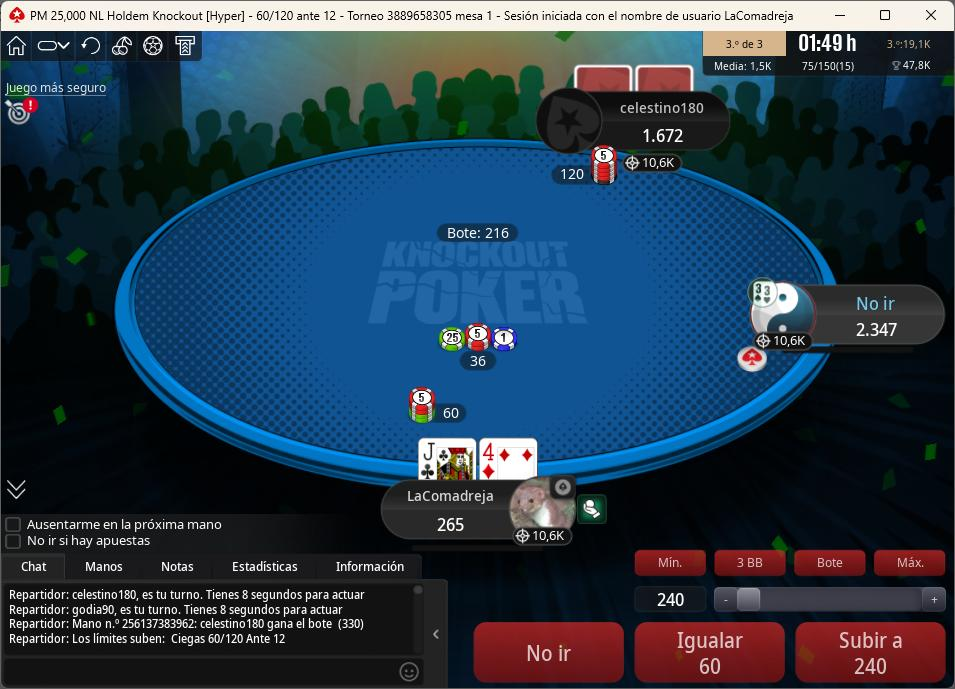ButtonCall: (628, 614, 784, 684)
ButtonFold: (472, 620, 631, 685)
ButtonMaxRaise: (874, 550, 950, 575)
ButtonMinRaise: (633, 547, 711, 580)
ButtonPotRaise: (794, 548, 869, 577)
ButtonRaise: (792, 618, 947, 684)
Dealer: (734, 344, 776, 377)
HiddenCards: (575, 67, 701, 96)
Player: (747, 281, 951, 352), (543, 89, 732, 155)
PlayerBet: (542, 138, 628, 199)
PlayerChips: (848, 323, 906, 342)
Pot: (435, 223, 522, 244)
PrincipalBet: (406, 385, 472, 425)
PrincipalCards: (412, 436, 543, 483)
PrincipalCards1: (415, 436, 480, 482)
PrincipalCards2: (480, 436, 542, 482)
PrincipalPlayer: (385, 475, 588, 554)
PrincipalPlayerChips: (431, 518, 473, 537)
SmallBigBlind: (245, 3, 347, 27)
TablePot: (437, 318, 548, 376)
